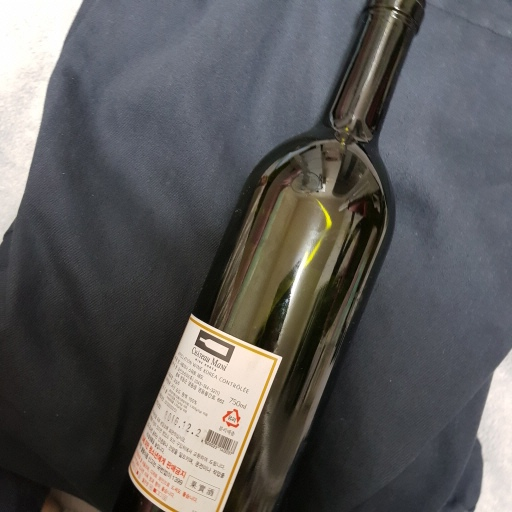Glass_2: (113, 1, 428, 512)
